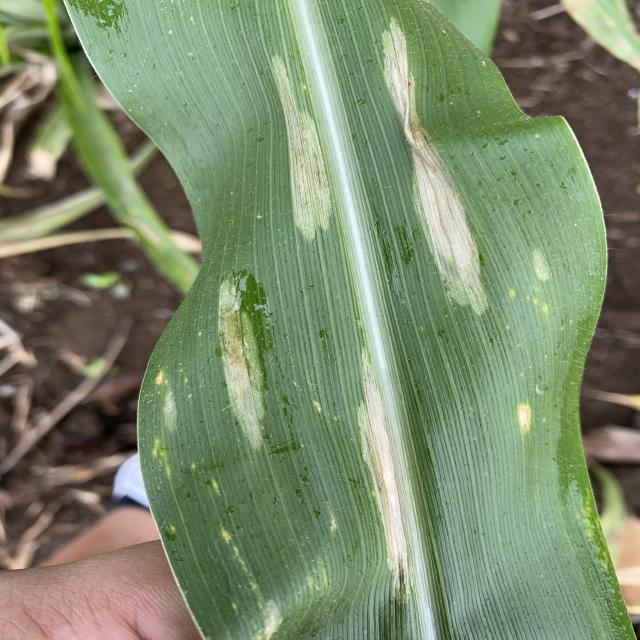Corn_Leaf_Blight: (137, 0, 607, 637)
